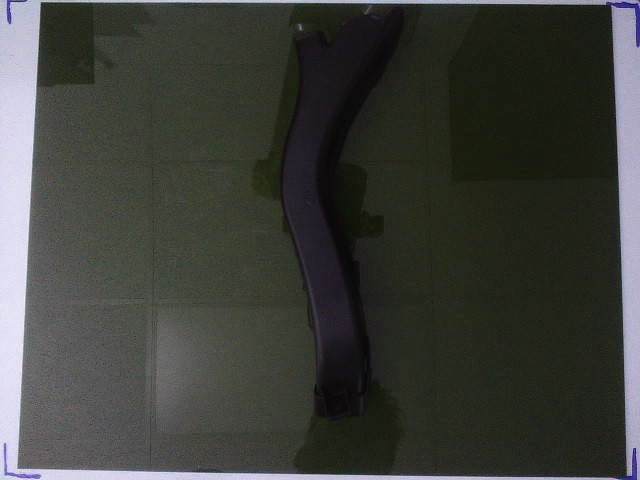887_B-Top: (282, 8, 405, 419)
